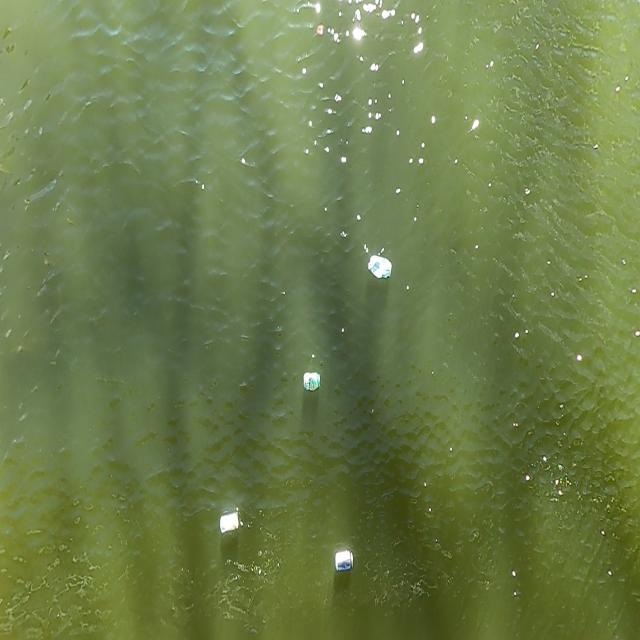Non plastique: (215, 502, 245, 541), (366, 247, 392, 286), (300, 364, 327, 400), (330, 548, 359, 581)
